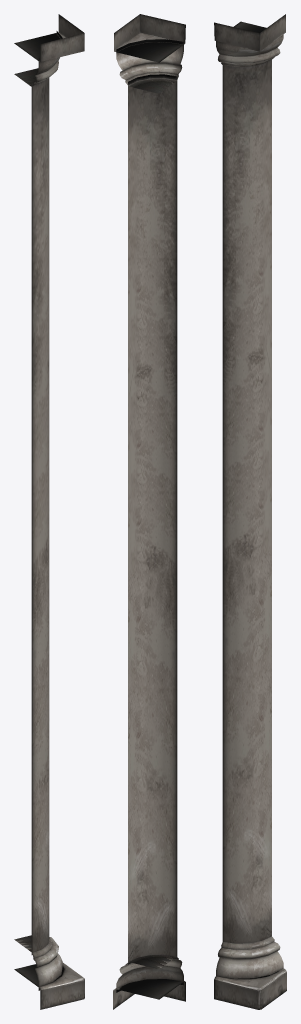
The model's file is colonne_demi.fbx.
The picture shows the model from 3 angles, left to right: view 1: azimuth 30°, elevation 25°; view 2: azimuth 150°, elevation 25°; view 3: azimuth 330°, elevation 25°; orthographic projection.
Parts seen in each view (by area): view 1: polySurface314; view 2: polySurface314; view 3: polySurface314.
Part boxes in pixels (bbox=[...]): polySurface314: bbox=[14, 14, 84, 1009]; polySurface314: bbox=[113, 14, 185, 1009]; polySurface314: bbox=[214, 14, 286, 1009].
Size of the model in its own units: 34.67 by 701 by 34.67.
